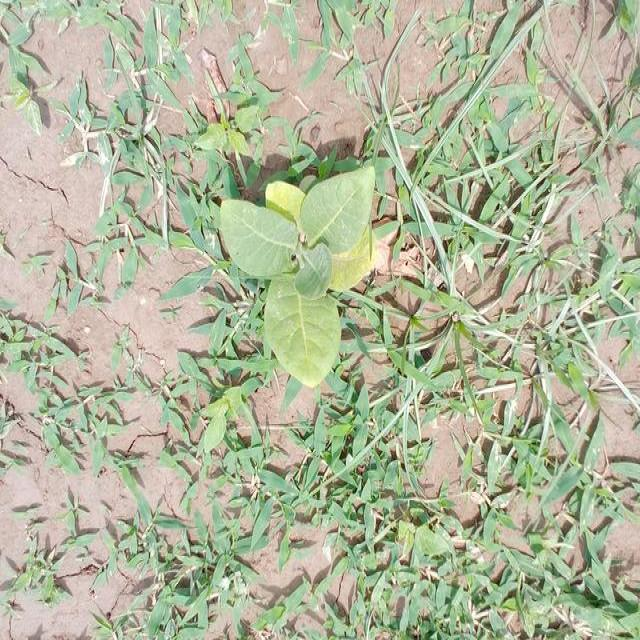crop: (230, 180, 386, 368)
